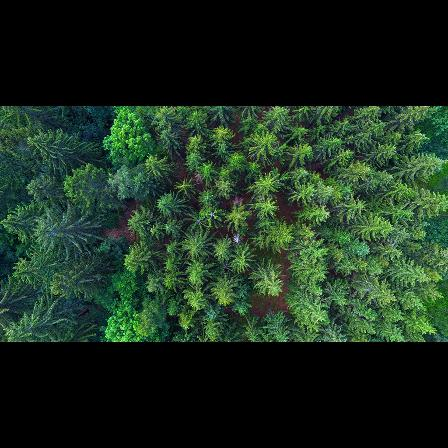Dead: (226, 229, 247, 246)
Sick: (190, 211, 206, 229)
